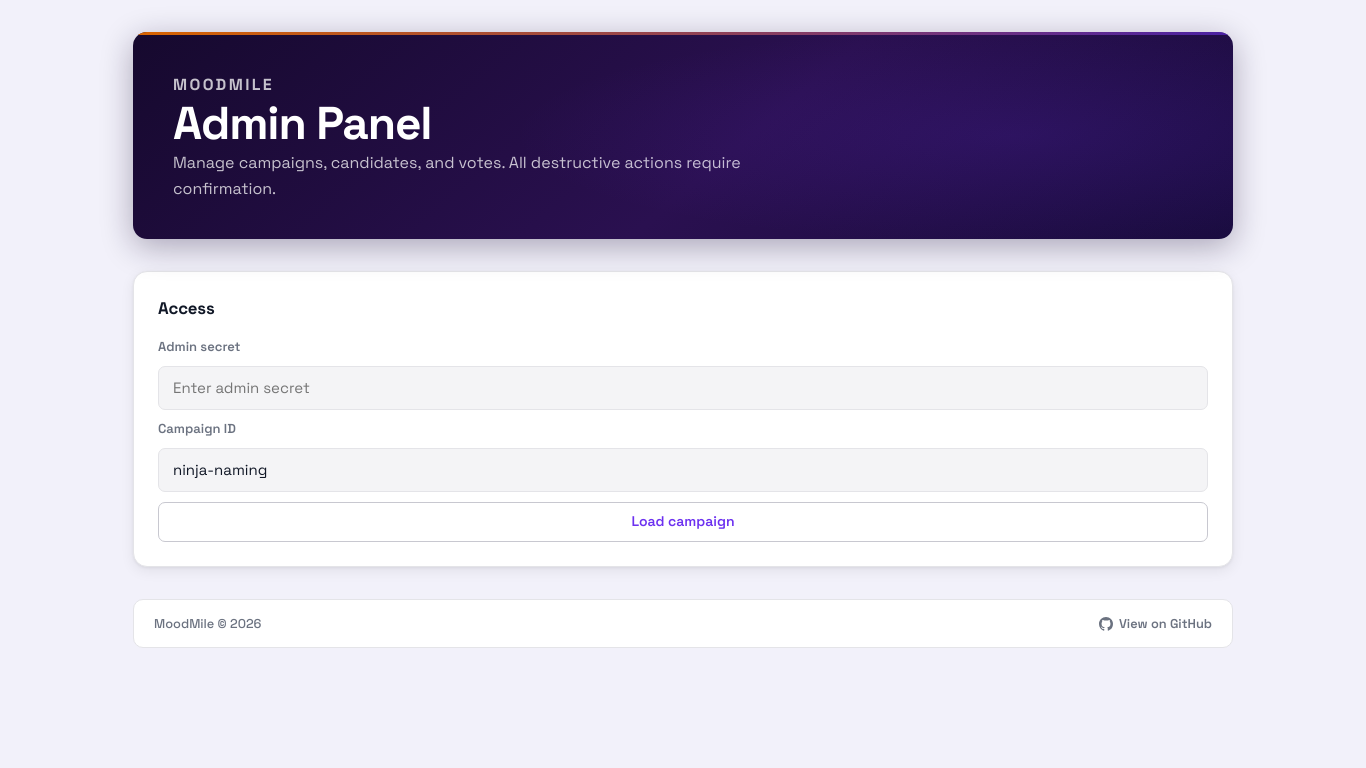
Test case: AdminPage document title › shows the server error message for a 500 API error
The image size is (1366, 768).
In the password field labelled "Admin secret": coordinates (683, 388) x1=158 y1=366 x2=1208 y2=410, type "secret"
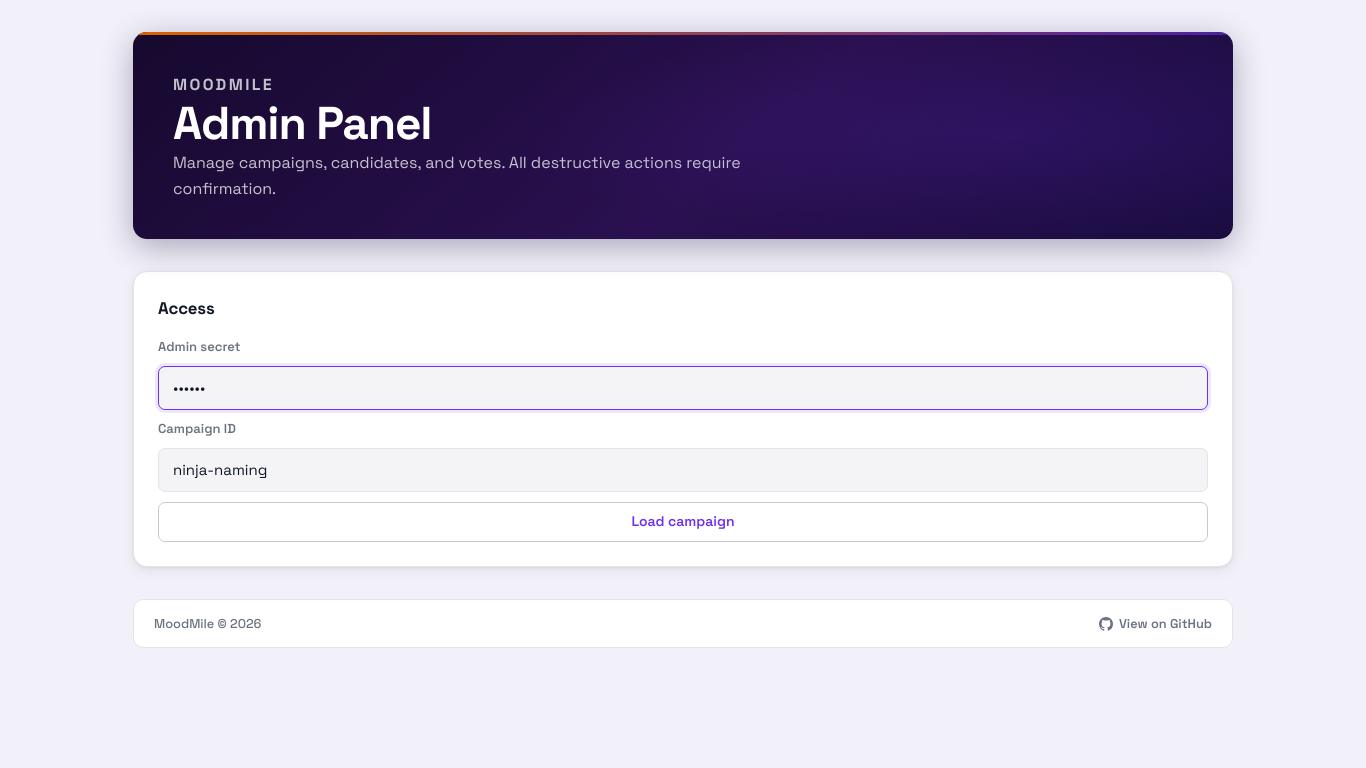
Click the button "Load campaign": coordinates (683, 522) x1=158 y1=502 x2=1208 y2=542
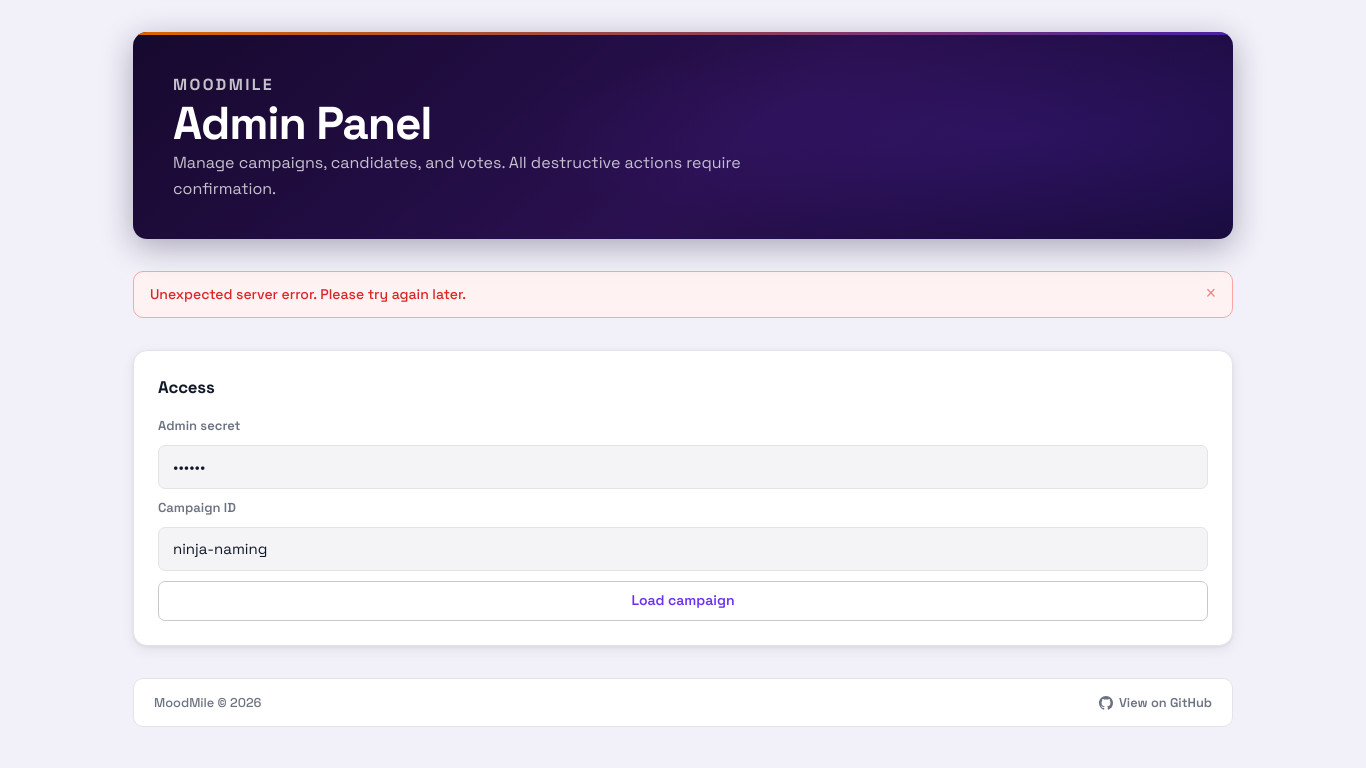
expect the message shows "Unexpected server error. Please try again later.": met, box x1=150 y1=285 x2=466 y2=303
